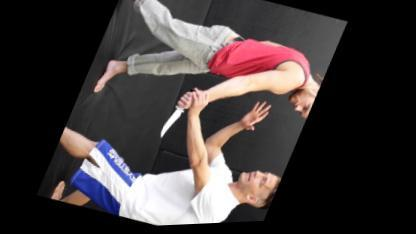knife: (158, 83, 200, 146)
